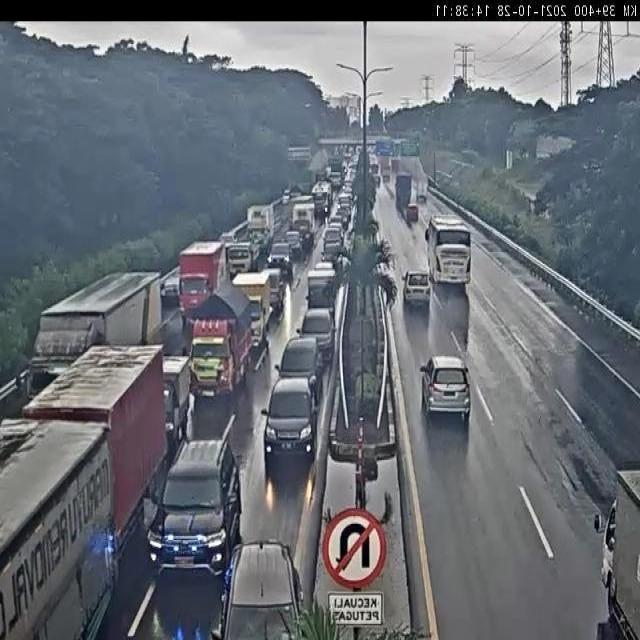Bus: (424, 216, 474, 286)
Car: (148, 438, 242, 585), (218, 538, 303, 640), (259, 379, 317, 465), (421, 356, 472, 428), (275, 335, 322, 395), (300, 307, 334, 368), (399, 266, 431, 307), (268, 242, 294, 280), (407, 204, 419, 222)
Truck: (0, 341, 167, 640), (35, 266, 162, 372), (592, 463, 640, 640), (191, 282, 255, 413), (176, 241, 228, 334), (227, 221, 264, 278), (394, 170, 414, 210)
